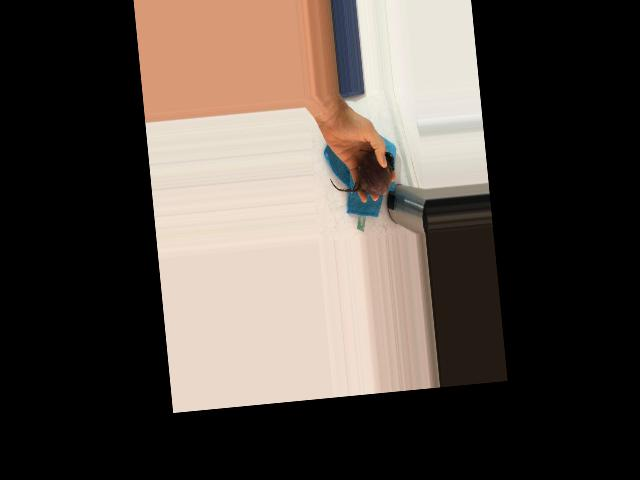beet: (327, 147, 397, 200)
